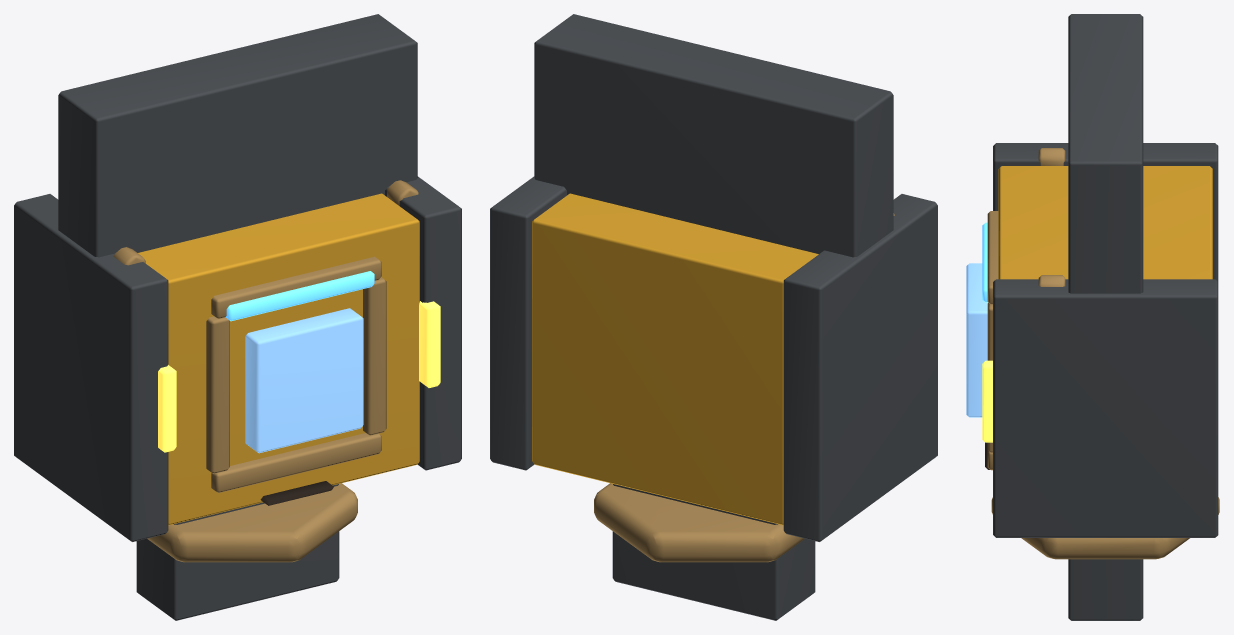
File: grumble_co_keystone_core.glb
3 renders of one model, left to right at view 1: azimuth 30°, elevation 25°; view 2: azimuth 150°, elevation 25°; view 3: azimuth 270°, elevation 25°, orthographic. The views are drawn at different scales.
Visible parts, largest first — view 1: grumble_co_keystone_core; view 2: grumble_co_keystone_core; view 3: grumble_co_keystone_core.
Boxes of the visible parts, box(x1,y1,x2,y2) form: grumble_co_keystone_core: box(14, 14, 461, 620); grumble_co_keystone_core: box(490, 14, 937, 620); grumble_co_keystone_core: box(966, 14, 1219, 620).
Size of the model in its own units: 0.68 by 1.02 by 0.4725.
1 material, 1 textured.
